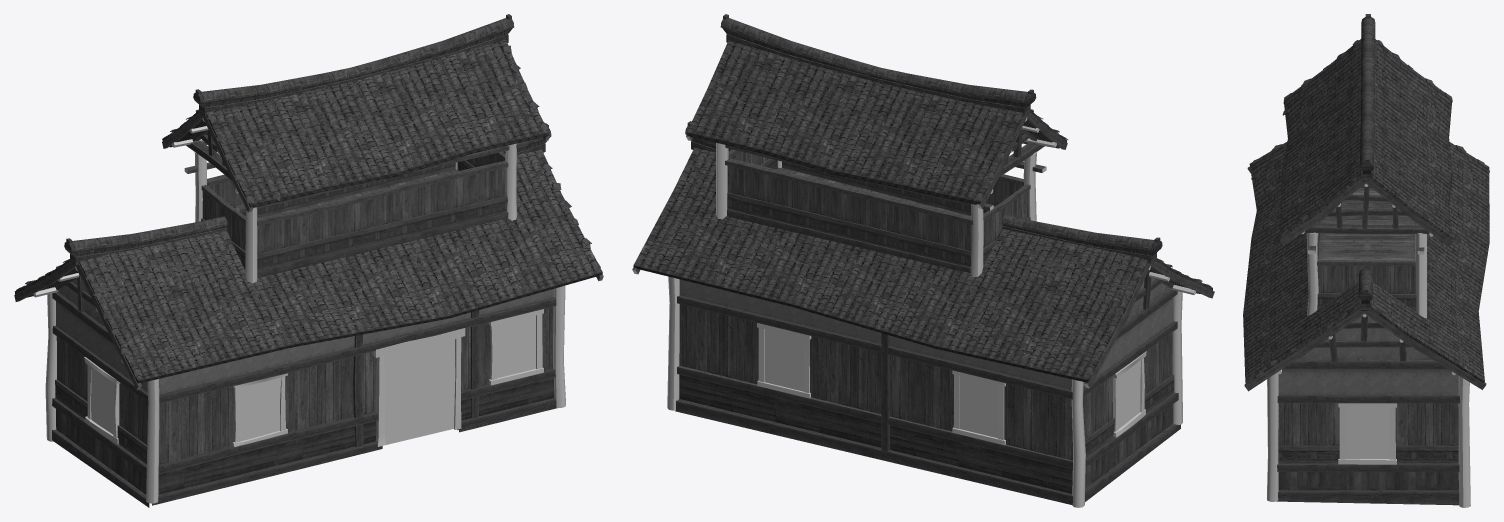
Rendered from Jap_Wood_House.fbx.
3 views of the same model, side by side, from view 1: azimuth 30°, elevation 25°; view 2: azimuth 150°, elevation 25°; view 3: azimuth 270°, elevation 25° (orthographic). The views are drawn at different scales.
Parts seen in each view (by area): view 1: v00; view 2: v00; view 3: v00.
Part boxes in pixels (bbox=[...]): v00: bbox=[14, 14, 603, 507]; v00: bbox=[632, 14, 1214, 507]; v00: bbox=[1243, 14, 1489, 507].
Bounding box in the file's own units: 15.85 × 11.47 × 7.41.
